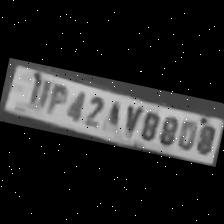0: (172, 114, 199, 151)
2: (79, 90, 107, 128)
4: (61, 86, 87, 122)
8: (191, 118, 219, 156), (134, 106, 160, 142), (154, 110, 180, 146)
A: (100, 95, 122, 131)
P: (40, 79, 67, 116)
U: (22, 72, 50, 110)
V: (116, 99, 144, 137)
